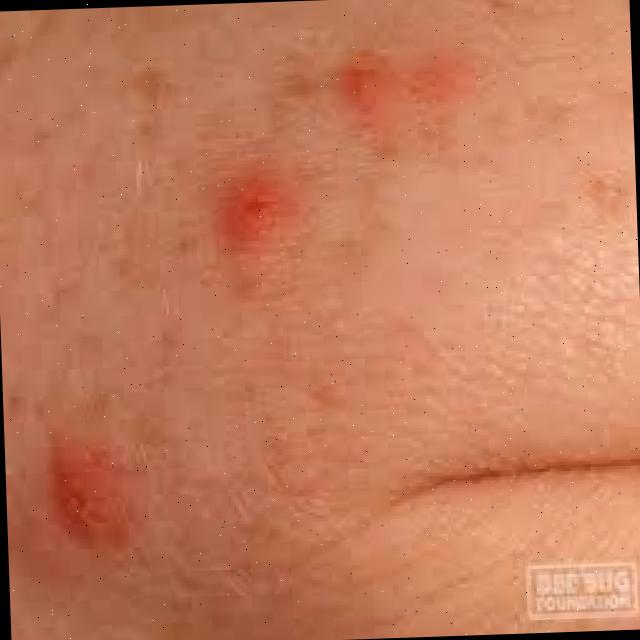kan emici bocekler: (39, 444, 165, 559), (224, 172, 302, 254)
